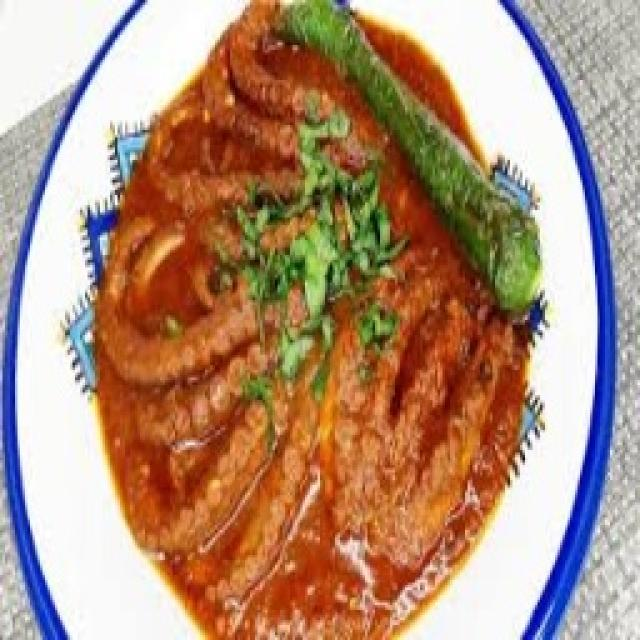Kamouniya: (95, 0, 531, 640), (357, 18, 472, 146)
